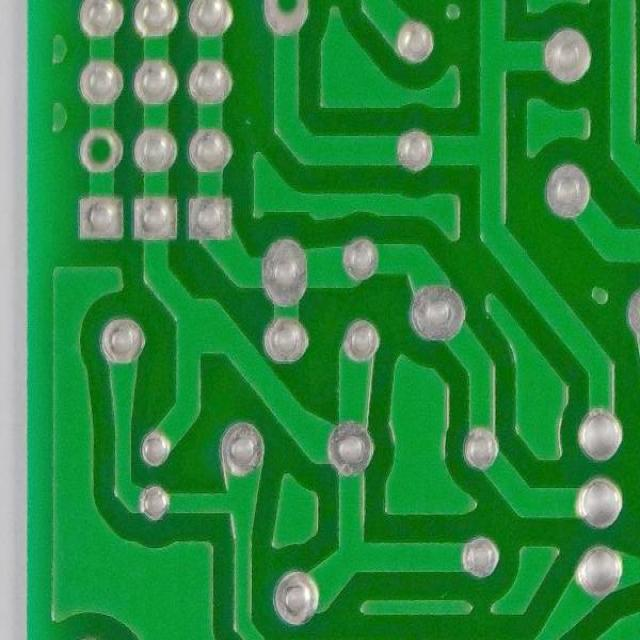missing hole: (76, 127, 127, 176), (258, 1, 315, 39)
